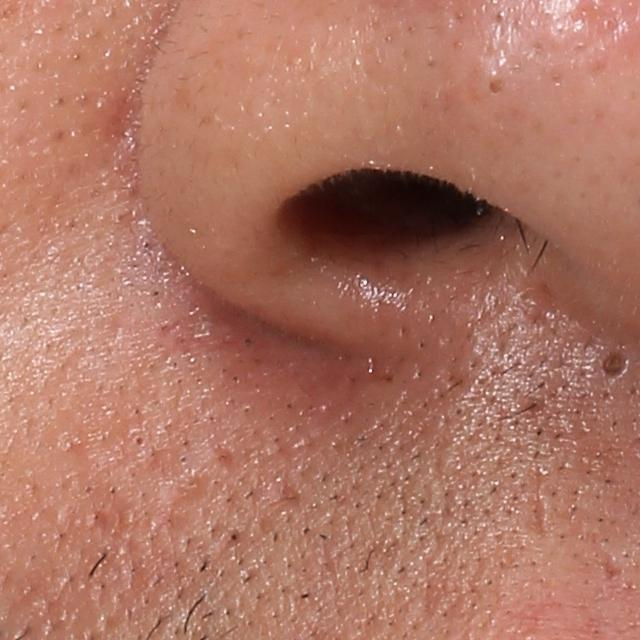atrophic_scar: (154, 474, 219, 547), (599, 548, 629, 599), (530, 473, 547, 553), (210, 428, 236, 472)
comedo: (596, 344, 632, 383), (487, 74, 504, 98), (131, 432, 149, 448)
